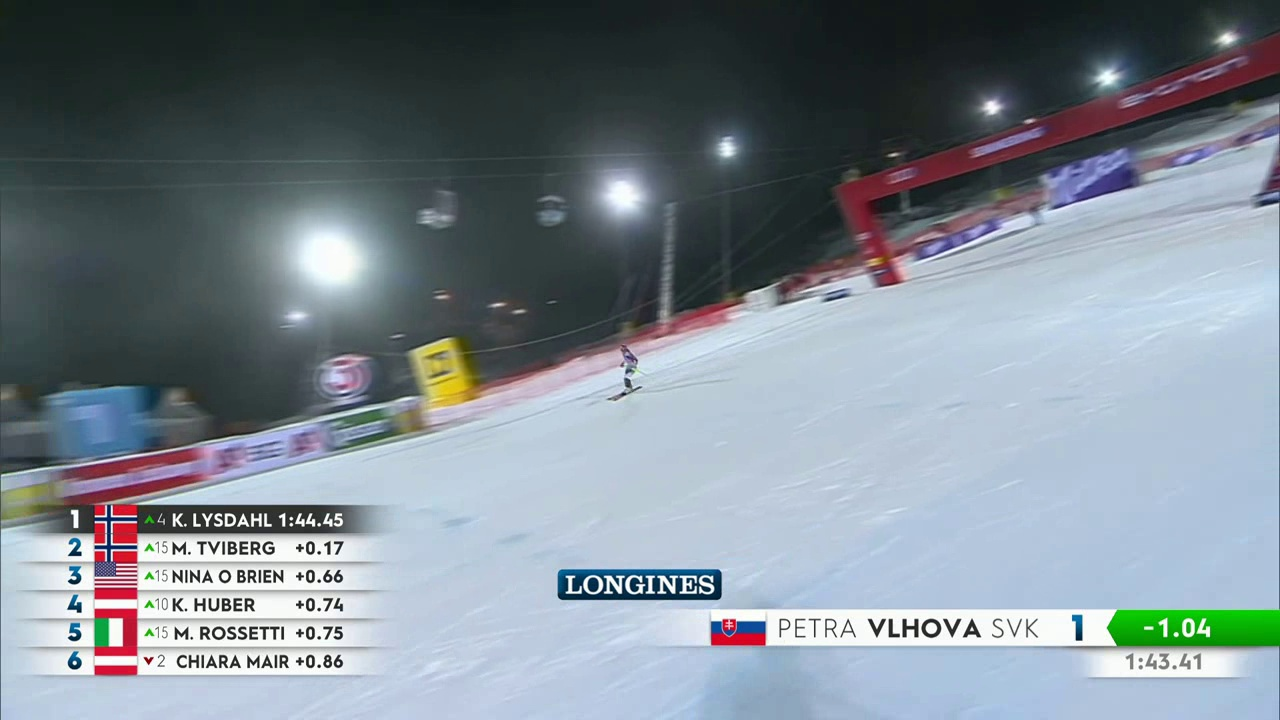longines: (545, 567, 728, 604)
